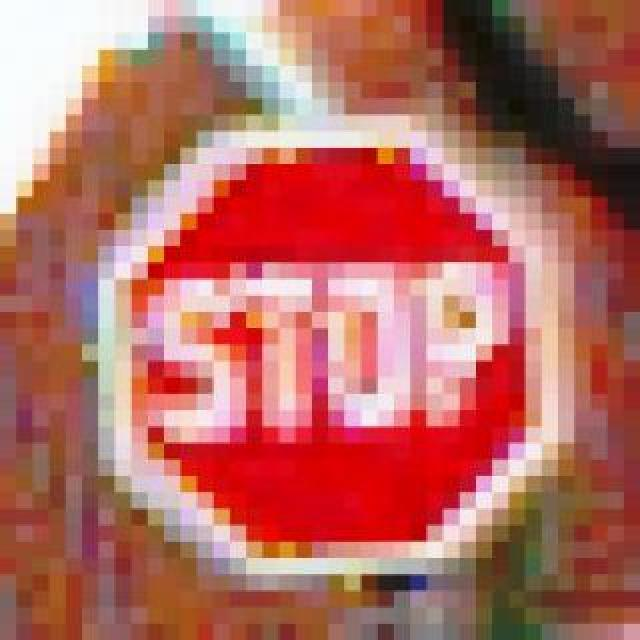stop: (96, 120, 572, 580)
